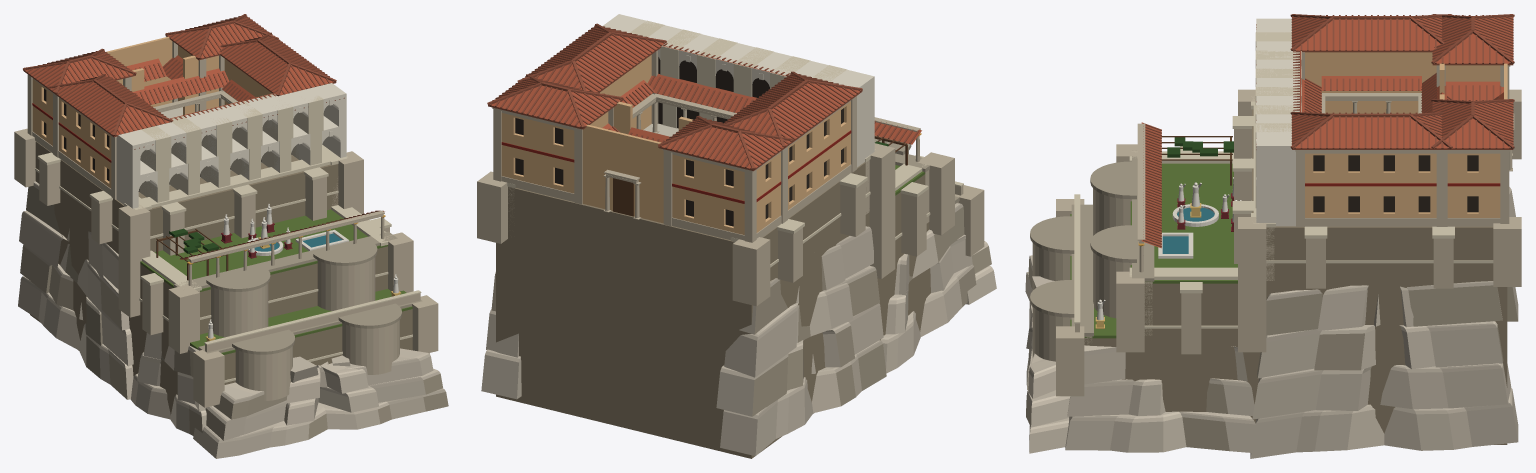
File: rome_domus_a.glb
The picture shows the model from 3 angles, left to right: view 1: azimuth 30°, elevation 25°; view 2: azimuth 150°, elevation 25°; view 3: azimuth 270°, elevation 25°; orthographic projection. The views are drawn at different scales.
Parts seen in each view (by area): view 1: rome_domus_a; view 2: rome_domus_a; view 3: rome_domus_a.
Part boxes in pixels (<box>): rome_domus_a: <box>14,14,448,458</box>; rome_domus_a: <box>477,14,996,458</box>; rome_domus_a: <box>1025,14,1521,458</box>.
Size of the model in its own units: 33.9 by 35.69 by 49.35.
